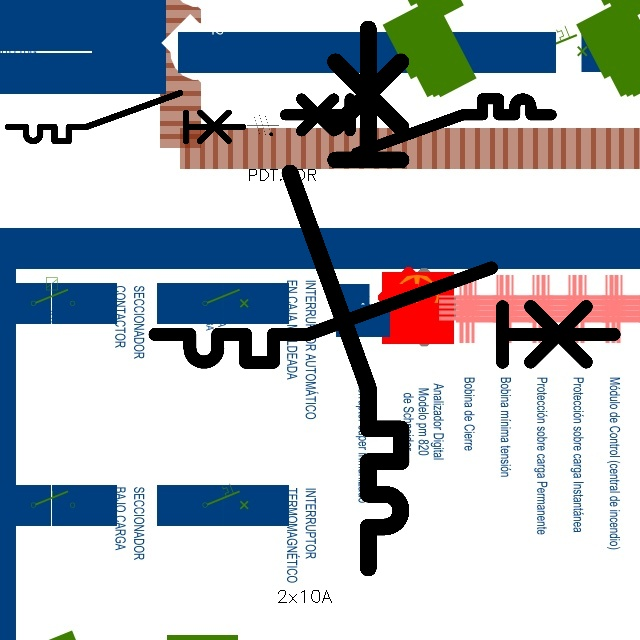interruptor_termomagnetico: (276, 15, 415, 582), (143, 256, 626, 374), (278, 92, 558, 160), (2, 87, 249, 147)
